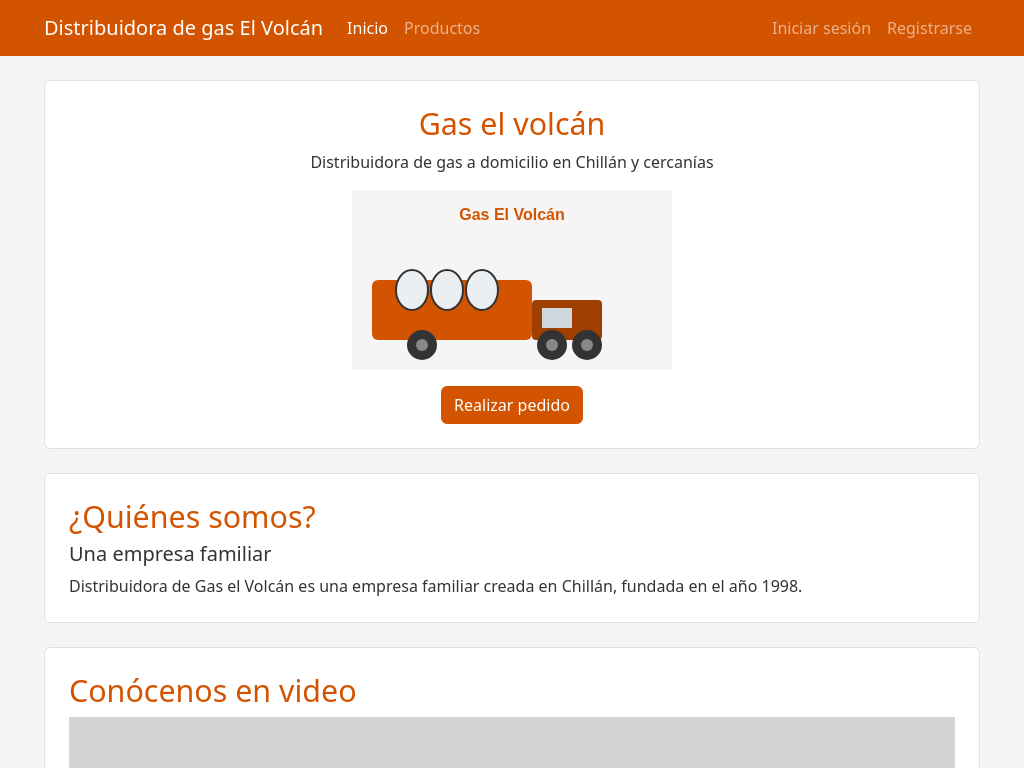
Navegación pública y rutas privadas › permite navegar desde Inicio al catálogo sin sesión y muestra los precios
Expected: the heading "Gas el volcán" is shown, [419,102,605,144]
Click the link "Productos". click: (442, 28)
box: [404,17,480,39]
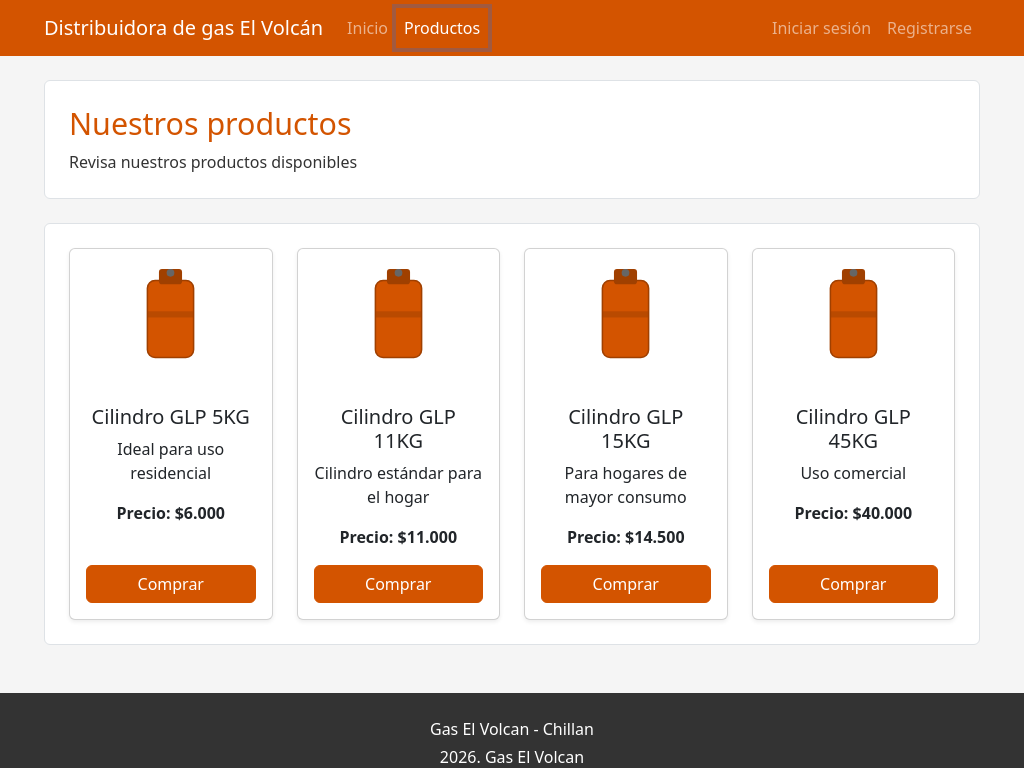
Expected: the heading "Cilindro GLP 5KG" is shown, [86,404,256,428]
Expected: the heading "Cilindro GLP 11KG" is shown, [341,402,456,454]
Expected: the heading "Cilindro GLP 15KG" is shown, [568,402,683,454]
